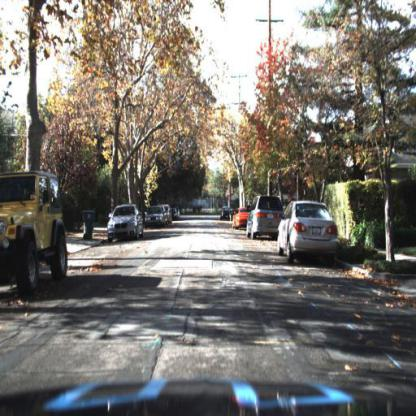car: (1, 172, 70, 297), (273, 197, 341, 262), (277, 202, 339, 261), (243, 193, 288, 238), (246, 190, 279, 240), (107, 204, 145, 243), (144, 205, 166, 229), (230, 205, 248, 229), (166, 203, 172, 233)
